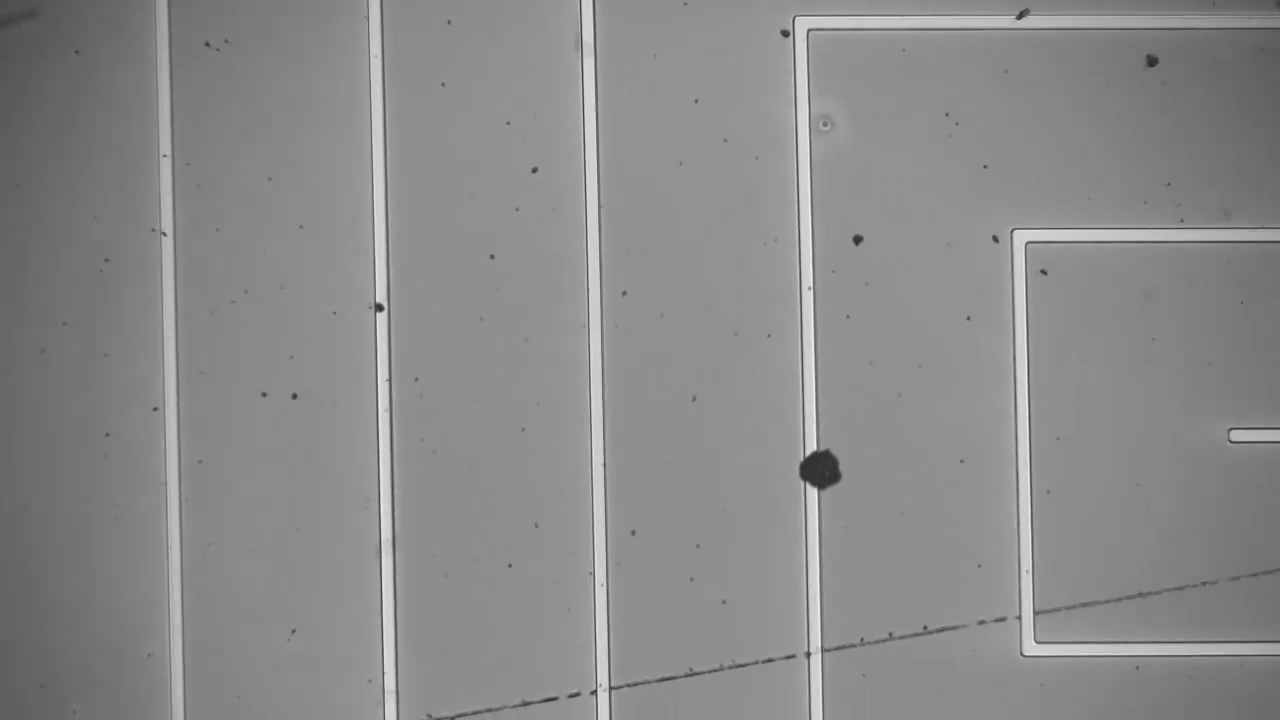scratch: (459, 568, 1280, 712)
stains_enbedded: (787, 428, 853, 495), (1011, 6, 1036, 33), (363, 295, 393, 316)
